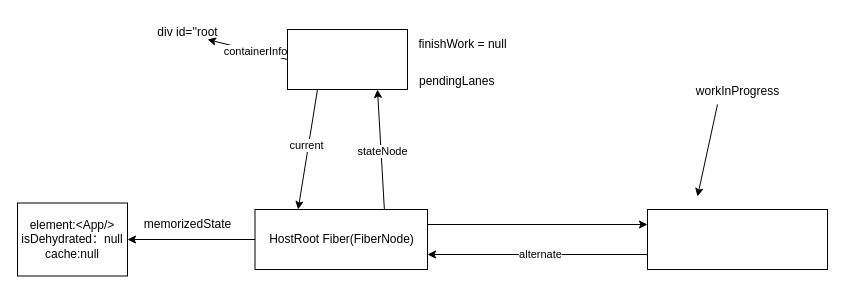
This 845x293 diagram has some shape labels left out. The centre of each missing label's shape, as x and y in pixels:
"fiberRootNode(根FiberNode)" belongs at [347,59].
"hostRootFiber wip" belongs at [737,239].
